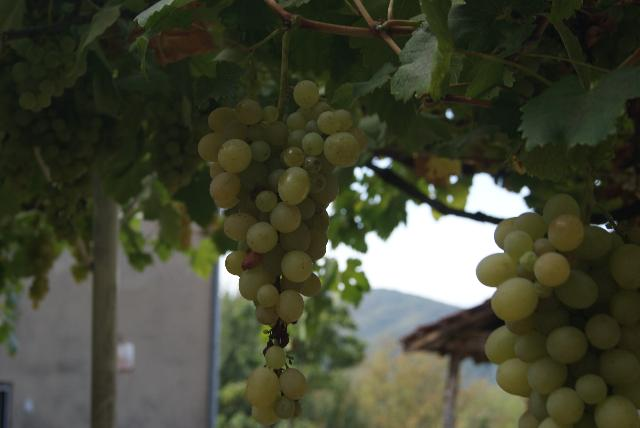grapes: (198, 80, 369, 426), (476, 194, 640, 428)
